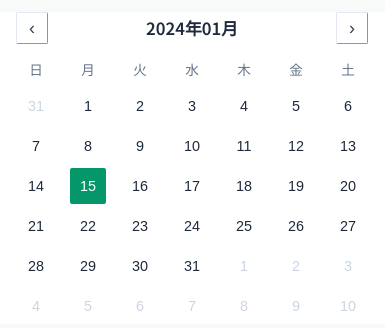
DailyReportCalendar › デスクトップ表示（月ビュー） › 翌月ボタンをクリックすると翌月が表示される
Click the button named "翌月" at (352, 28), box [336,12,368,44]
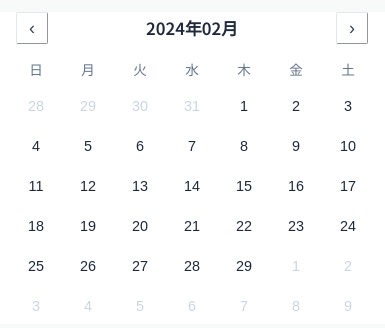
Expected: the text "2024年02月" is shown, [146,15,238,42]
